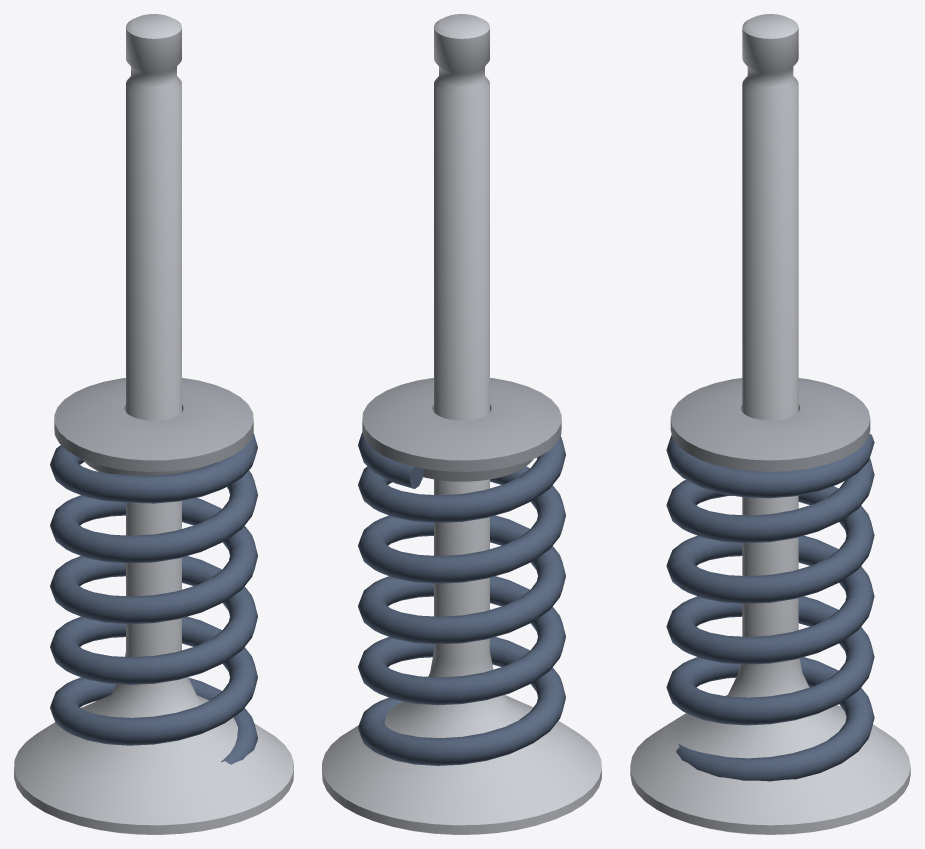
File: val_valve_exhaust_stock.glb
The picture shows the model from 3 angles, left to right: view 1: azimuth 30°, elevation 25°; view 2: azimuth 150°, elevation 25°; view 3: azimuth 270°, elevation 25°; orthographic projection.
Visible parts, largest first — view 1: val_spring_exhaust_stock, val_valve_exhaust_stock; view 2: val_spring_exhaust_stock, val_valve_exhaust_stock; view 3: val_spring_exhaust_stock, val_valve_exhaust_stock.
Part boxes in pixels (x1=…): val_spring_exhaust_stock: x1=50, y1=378, x2=257, y2=764; val_valve_exhaust_stock: x1=14, y1=14, x2=293, y2=834; val_spring_exhaust_stock: x1=358, y1=378, x2=565, y2=765; val_valve_exhaust_stock: x1=322, y1=14, x2=601, y2=834; val_spring_exhaust_stock: x1=666, y1=378, x2=874, y2=781; val_valve_exhaust_stock: x1=630, y1=14, x2=910, y2=834.
Bounding box in the file's own units: 0.035 × 0.104 × 0.035.
